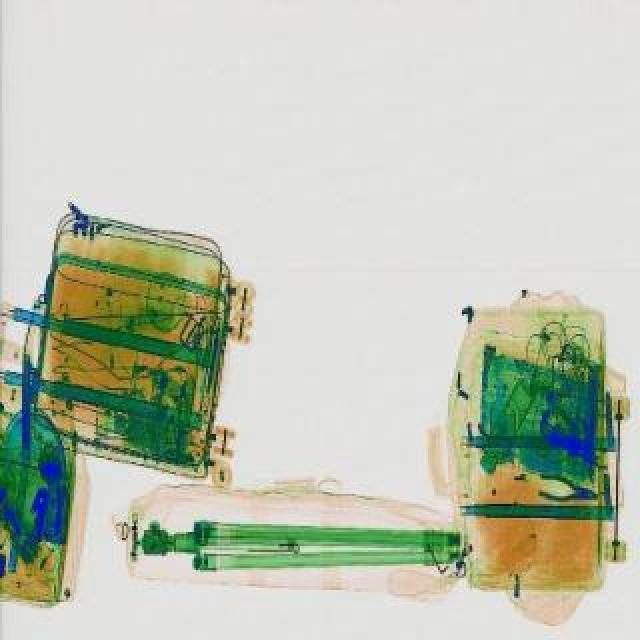wrench: (534, 468, 598, 504)
